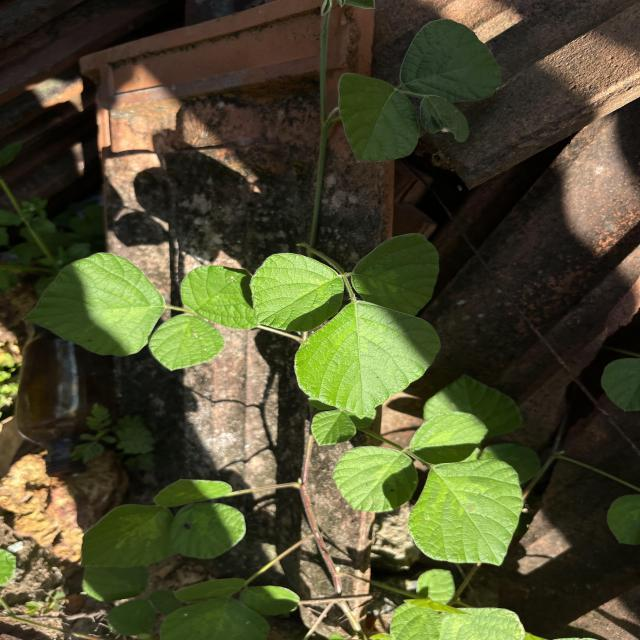Pseudarthria viscida: (248, 230, 443, 422), (331, 408, 526, 568), (20, 250, 254, 373)
